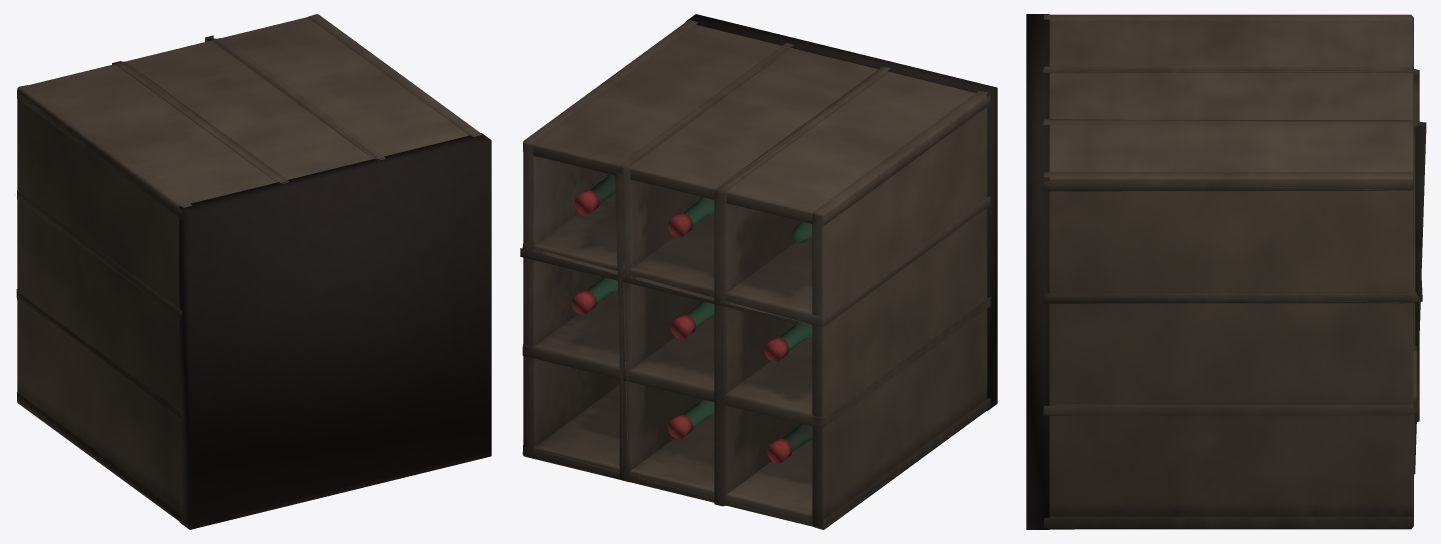
File: bottle_rack.obj
3 renders of one model, left to right at view 1: azimuth 30°, elevation 25°; view 2: azimuth 150°, elevation 25°; view 3: azimuth 270°, elevation 25°, orthographic. The views are drawn at different scales.
Parts seen in each view (by area): view 1: part4, part0; view 2: part0, part4, part3, part2, part1; view 3: part0, part4.
Part boxes in pixels (x1,y1,x2,y2): part4: [179, 133, 491, 529]; part0: [16, 14, 482, 521]; part0: [520, 20, 990, 529]; part4: [685, 14, 997, 410]; part3: [571, 190, 792, 463]; part2: [587, 197, 812, 427]; part1: [590, 174, 812, 451]; part0: [1043, 14, 1426, 529]; part4: [1026, 14, 1049, 529].
Bounding box in the file's own units: 1.01 × 1.01 × 1.03.
